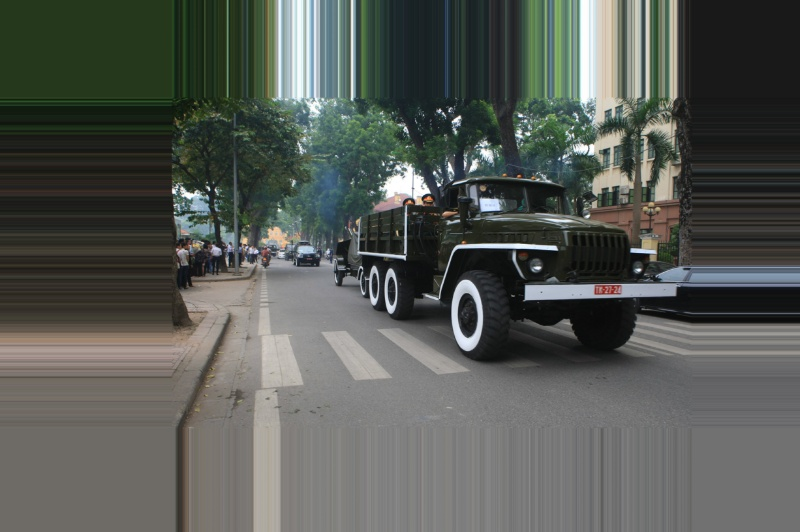plate: (588, 281, 628, 301)
